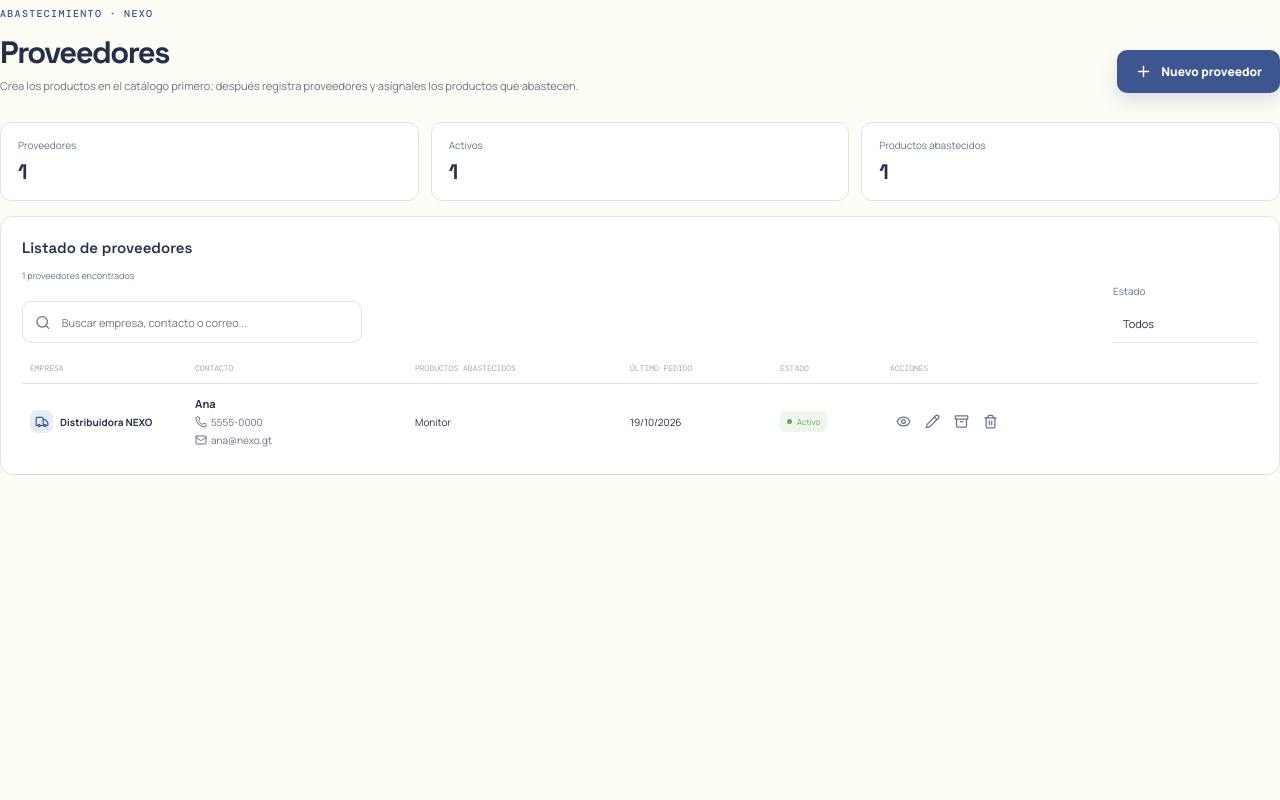
it: proveedores › muestra compras y productos relacionados, y archiva en lugar de eliminar relaciones
Click the button named "Ver proveedor Distribuidora NEXO". click: (903, 422)
box: [890,408,916,434]
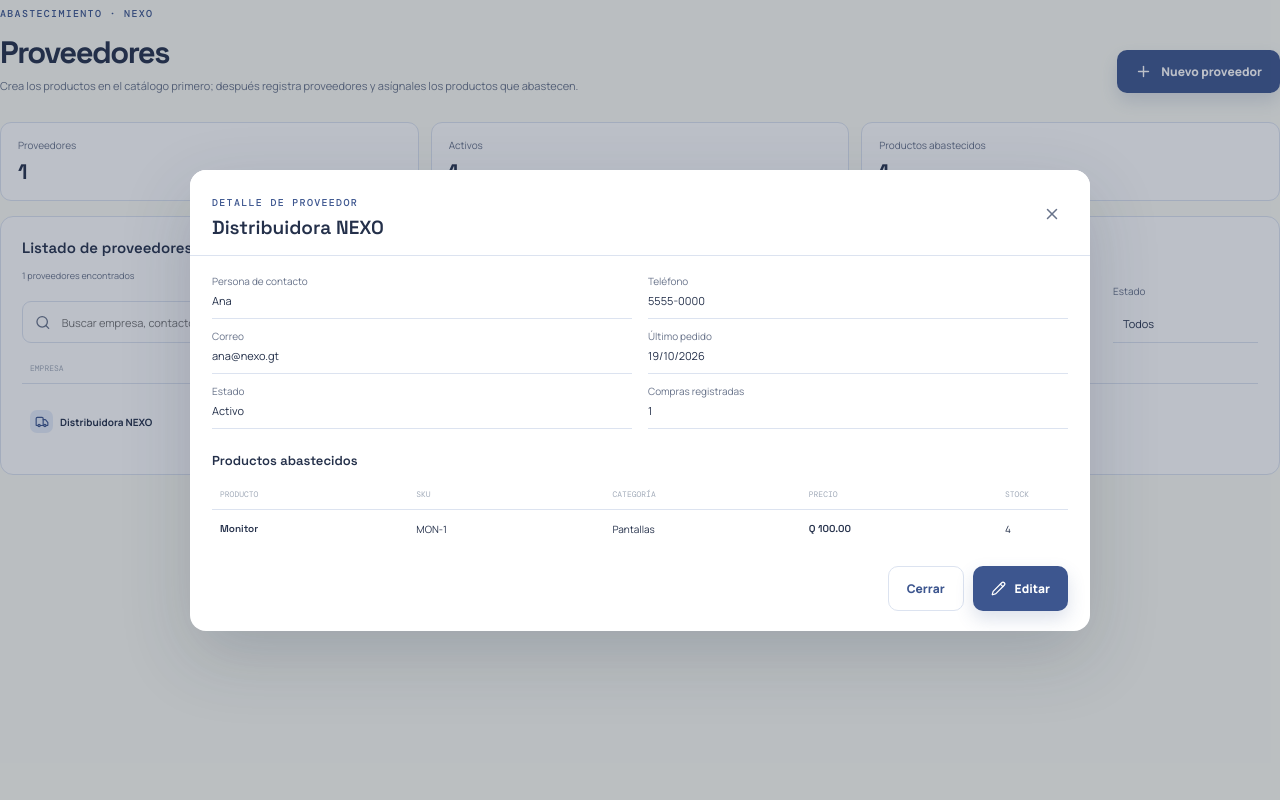
Expected: the dialog shows "Monitor", [220,522,258,535]
Expected: the dialog shows "Compras registradas", [648,384,744,398]
Expected: the dialog shows "Q 100.00", [809,522,851,535]
Click the button named "Cerrar". click: (1052, 214)
box: [1036,198,1068,230]
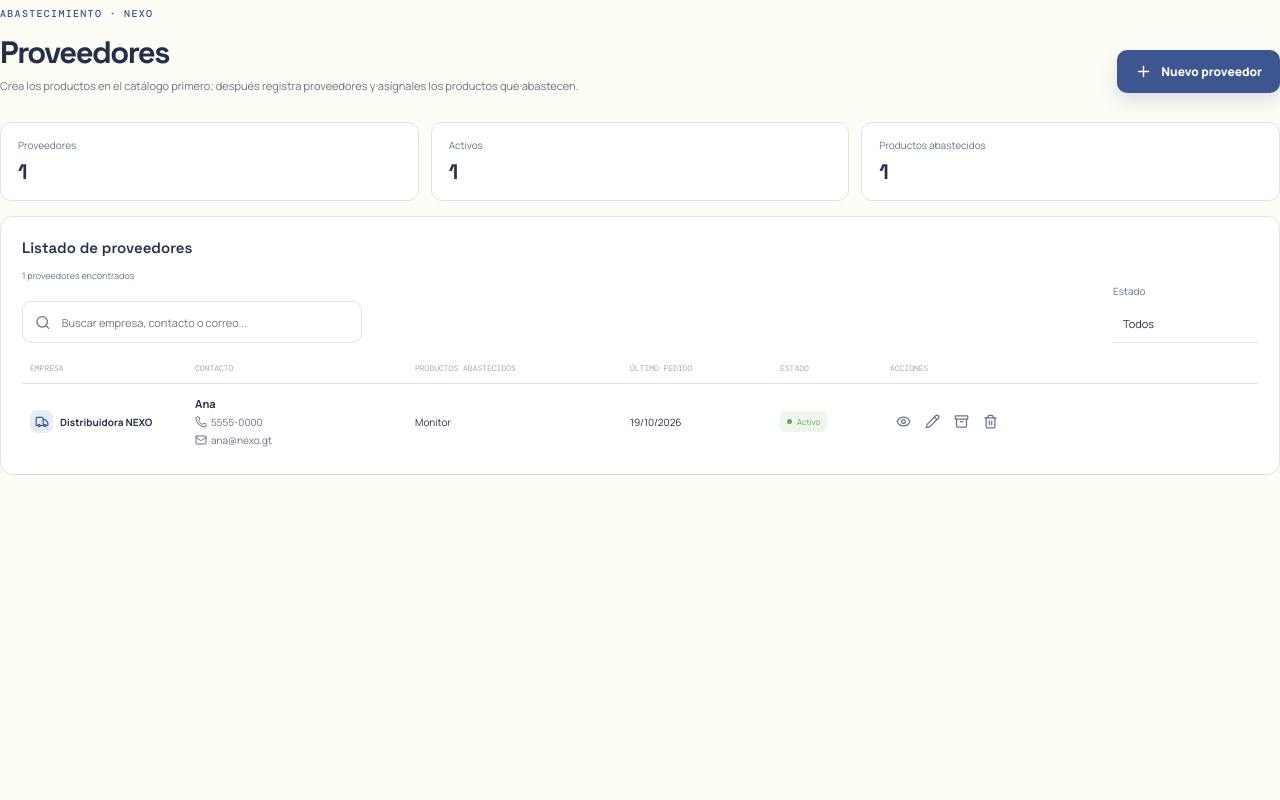
Click the button named "Eliminar proveedor Distribuidora NEXO". click: (990, 422)
box: [977,408,1003,434]
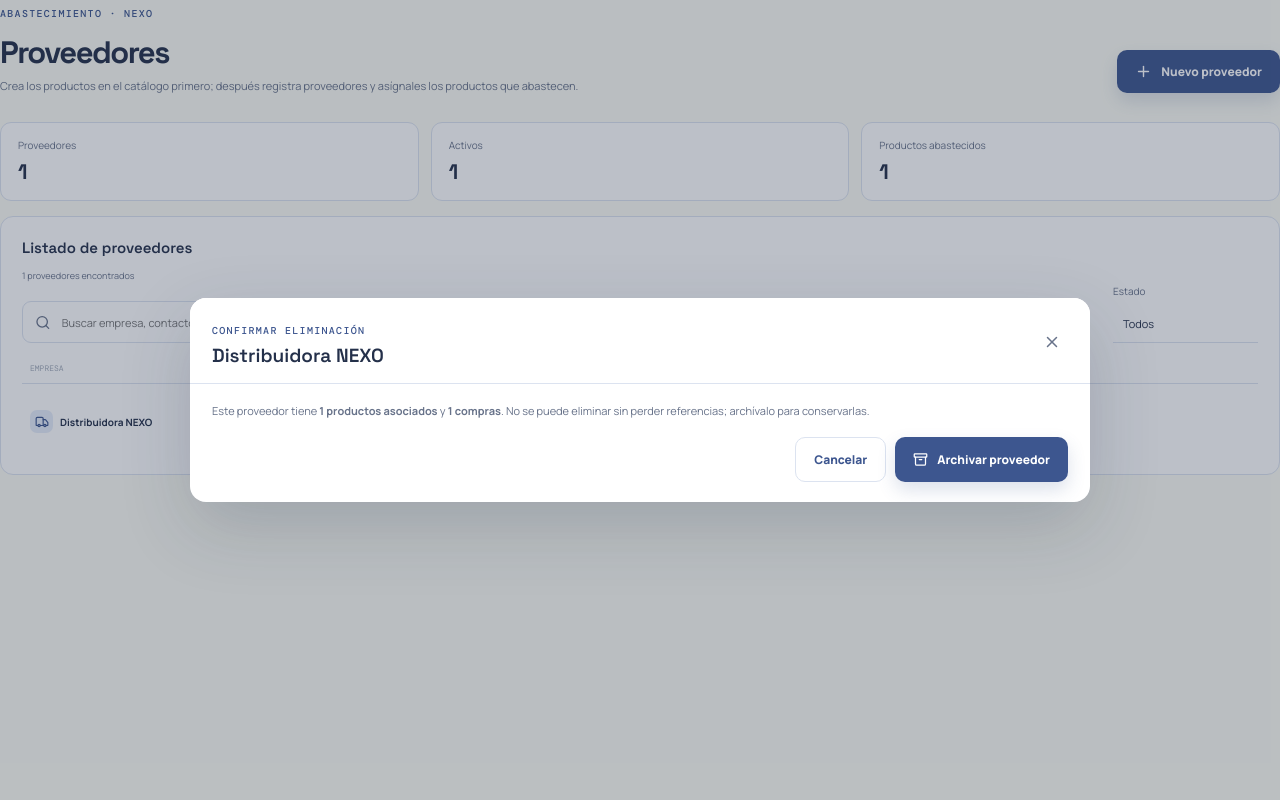
Expected: the text "No se puede eliminar sin perder referencias" is shown, [501,403,870,418]
Click the button "Archivar proveedor". click: (982, 460)
box: [895,437,1068,482]
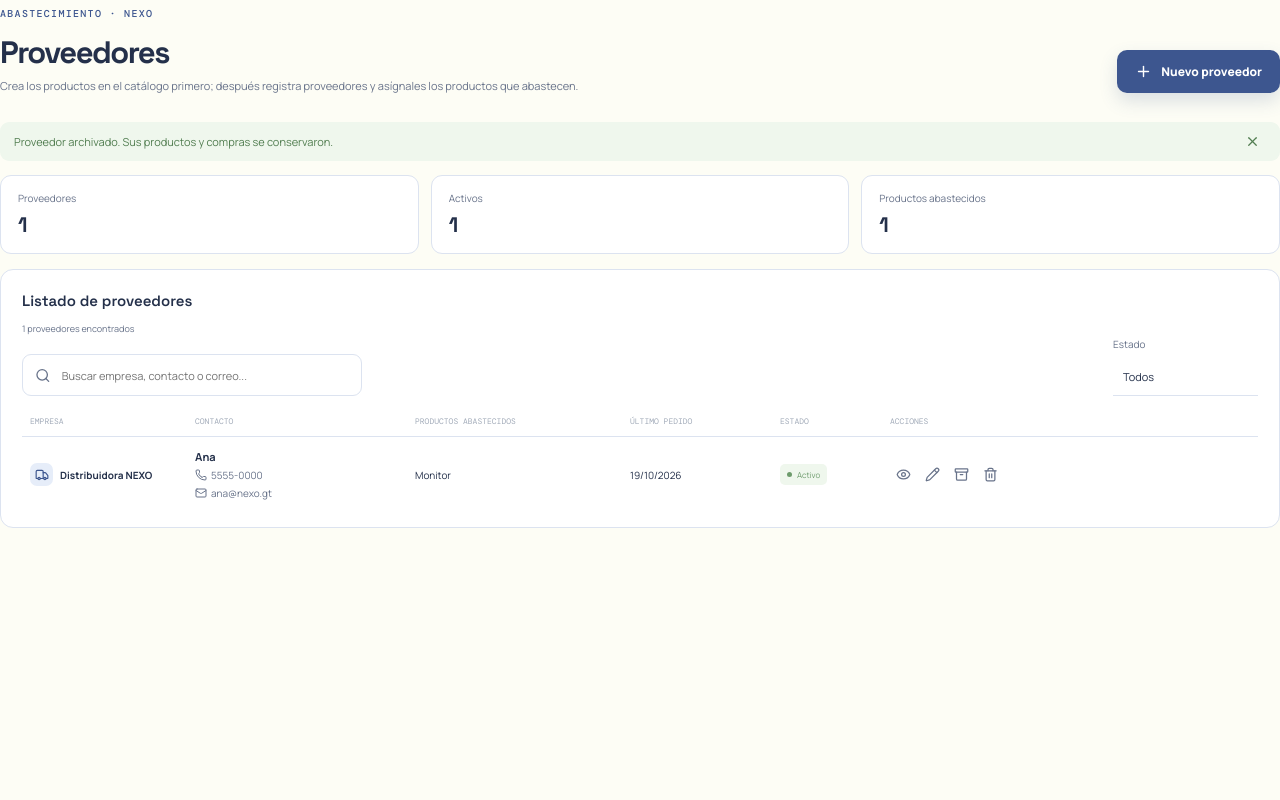
Expected: the message shows "Proveedor archivado", [14,134,333,149]
